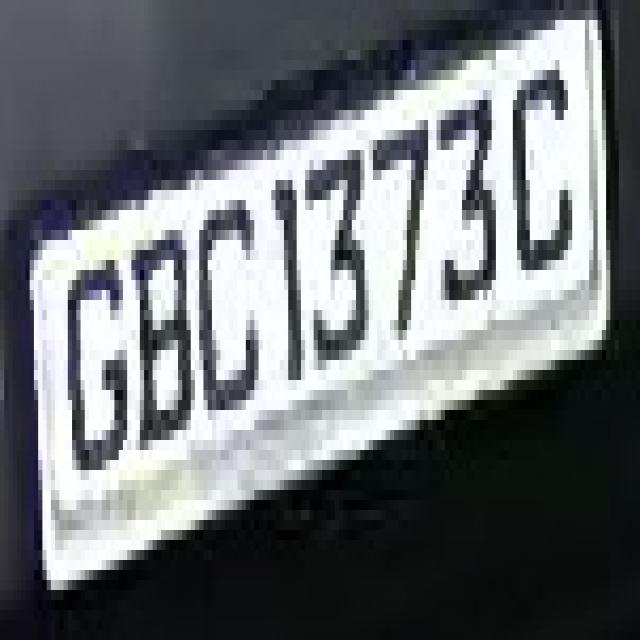1: (263, 170, 318, 430)
3: (436, 70, 508, 340), (314, 150, 373, 410)
7: (382, 80, 436, 390)
B: (136, 190, 195, 480)
C: (195, 170, 267, 440), (504, 50, 581, 300)
G: (60, 240, 132, 500)
